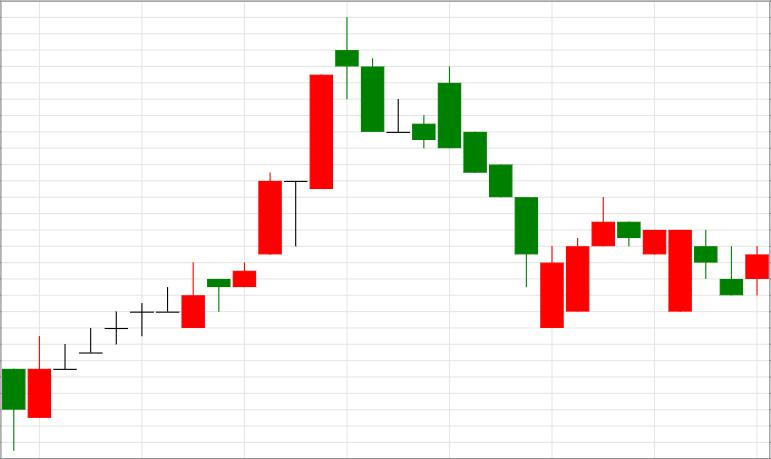evening_star_fall: (181, 18, 384, 328)
